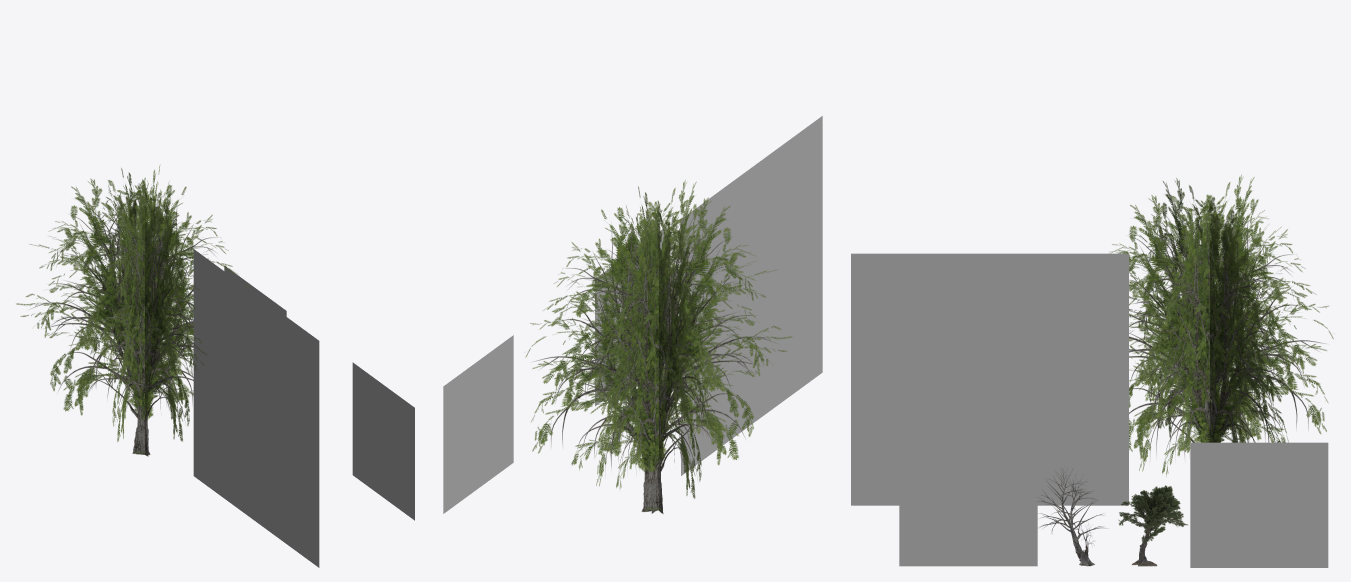
3 views of the same model, side by side, from view 1: azimuth 30°, elevation 25°; view 2: azimuth 150°, elevation 25°; view 3: azimuth 270°, elevation 25° (orthographic). The views are drawn at different scales.
Parts seen in each view (by area): view 1: Tree3Billboard, BigTreeBillboard.001, Tree1Billboard; view 2: BigTreeBillboard.001, Tree3Billboard, Tree4Billboard, Tree1Billboard; view 3: Tree3Billboard, BigTreeBillboard.001, Tree1Billboard, Tree4Billboard, CrazyRootsBillboard_CrazyRootsBillboard_0, DeadTreeBillboard.
Boxes of the visible parts, left/top/right/bottom form: Tree3Billboard: left=193, top=249, right=319, bottom=567; BigTreeBillboard.001: left=16, top=165, right=249, bottom=456; Tree1Billboard: left=352, top=362, right=414, bottom=520; BigTreeBillboard.001: left=525, top=180, right=791, bottom=513; Tree3Billboard: left=681, top=116, right=822, bottom=475; Tree4Billboard: left=443, top=335, right=513, bottom=513; Tree1Billboard: left=595, top=228, right=664, bottom=406; Tree3Billboard: left=851, top=253, right=1128, bottom=505; BigTreeBillboard.001: left=1110, top=174, right=1333, bottom=476; Tree1Billboard: left=899, top=441, right=1037, bottom=566; Tree4Billboard: left=1190, top=442, right=1328, bottom=567; CrazyRootsBillboard_CrazyRootsBillboard_0: left=1118, top=485, right=1187, bottom=566; DeadTreeBillboard: left=1038, top=470, right=1106, bottom=566.
Bounding box in the file's own units: 11.94 × 19.77 × 19.97.
